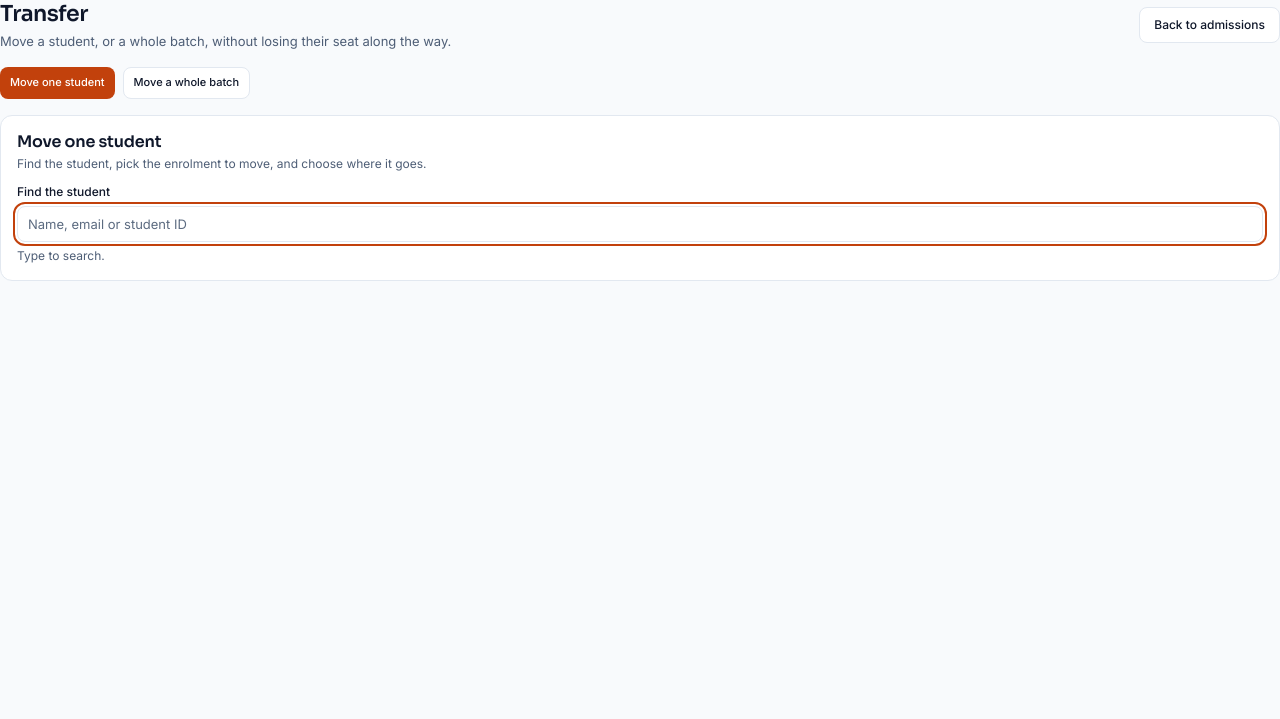
Scenario: Transfer — a whole batch › moves the ticked students in one request and says who was skipped
Click the button "Move a whole batch" at (186, 83), box [122, 67, 250, 99]
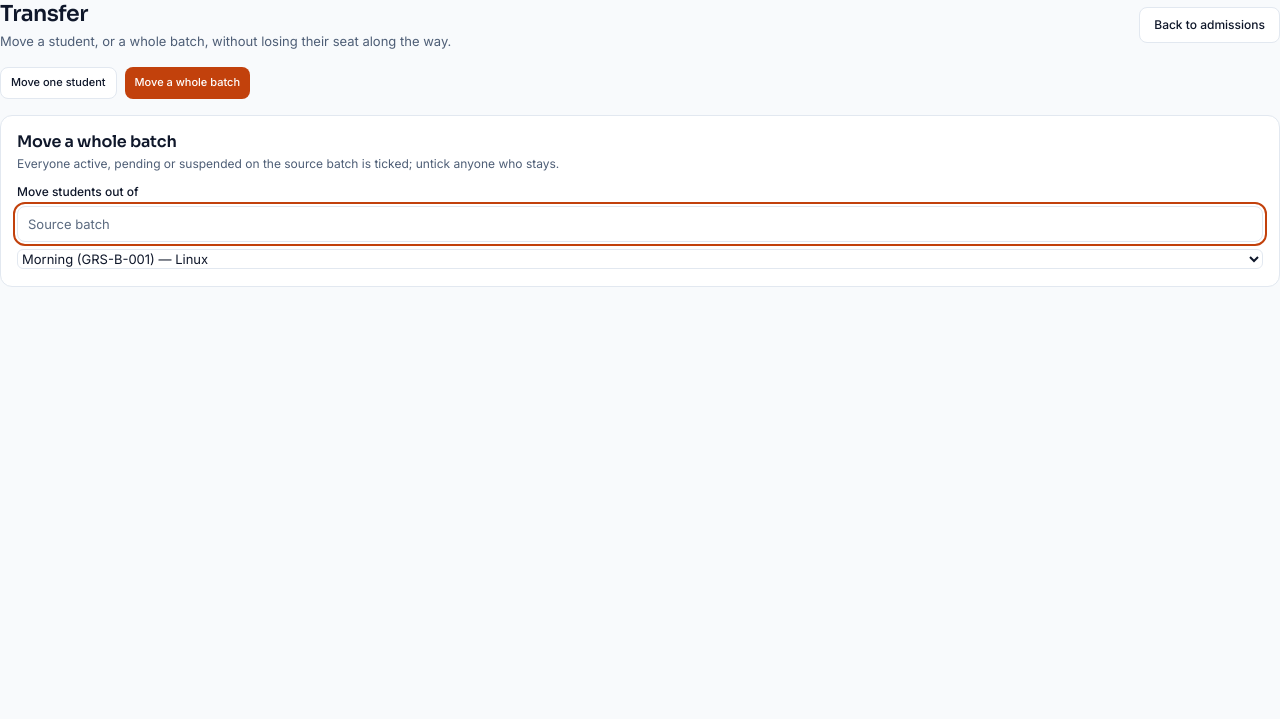
Select "Morning (GRS-B-001) — Linux" in the dropdown named "Move students out of results" at (640, 259), box [17, 249, 1263, 269]
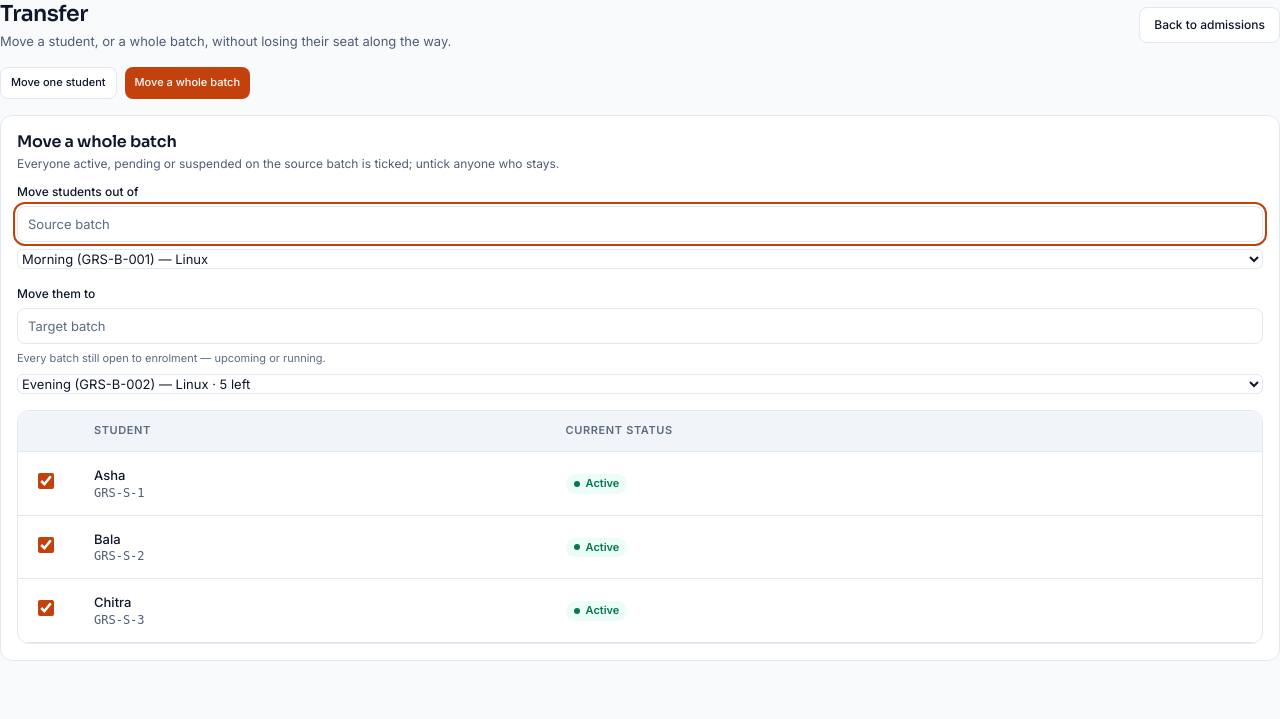
Select "Evening (GRS-B-002) — Linux · 5 left" in the dropdown named "Move them to results" at (640, 384), box [17, 374, 1263, 394]
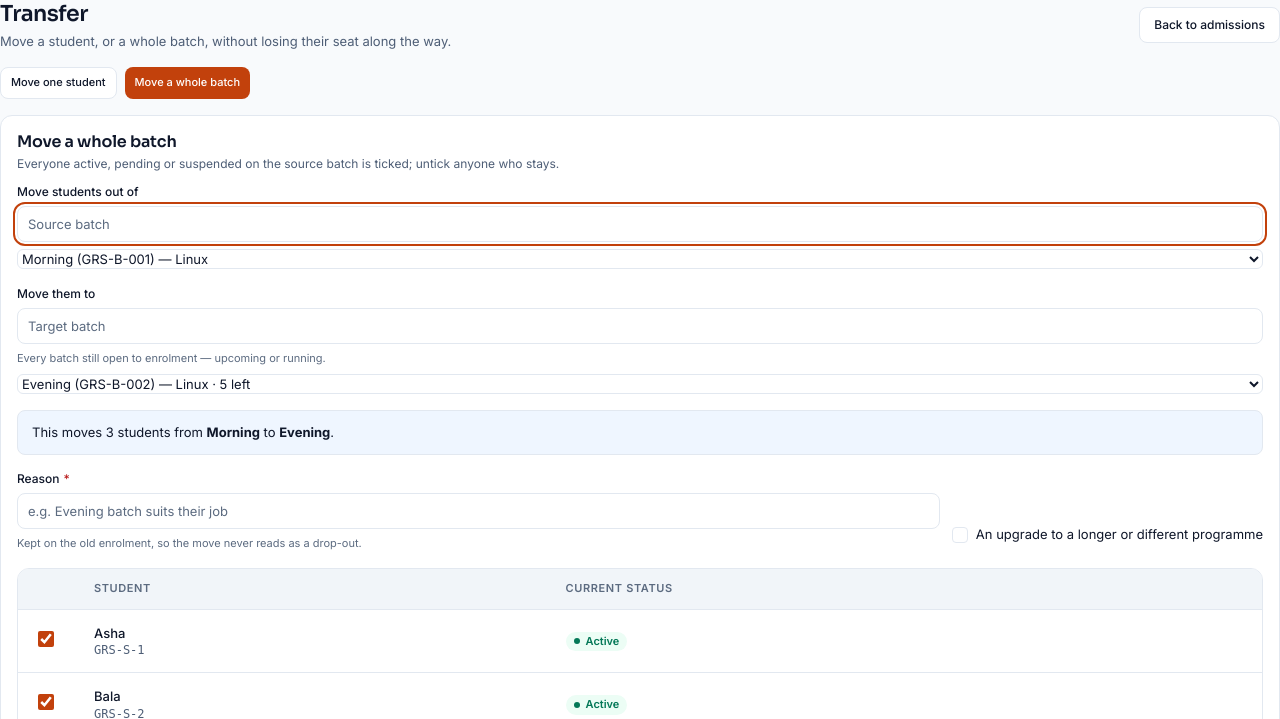
Click the checkbox named "Move Bala" at (46, 702), box [38, 694, 54, 710]
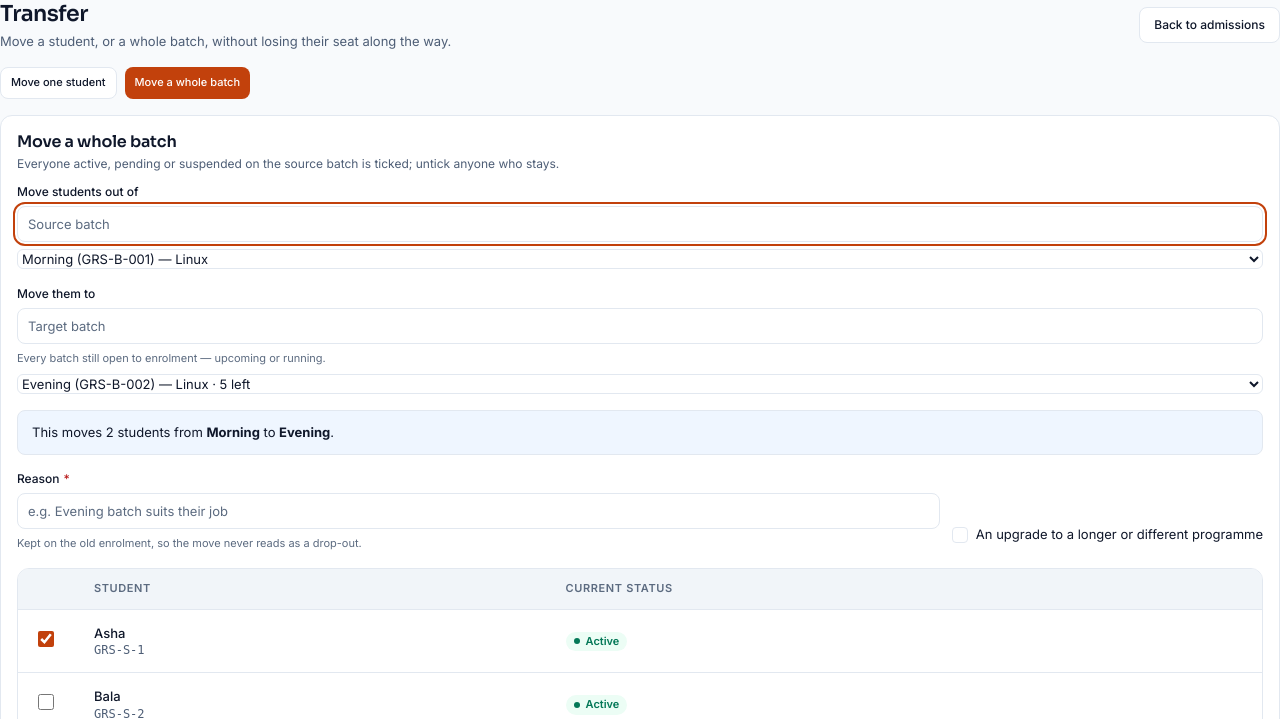
Now the message with test id "batch-transfer-preview" shows "This moves 2 students", box [17, 410, 1263, 455]
Type "Merged" into the field labelled "Reason*" at (478, 511), box [17, 493, 940, 529]
(page scrolled)
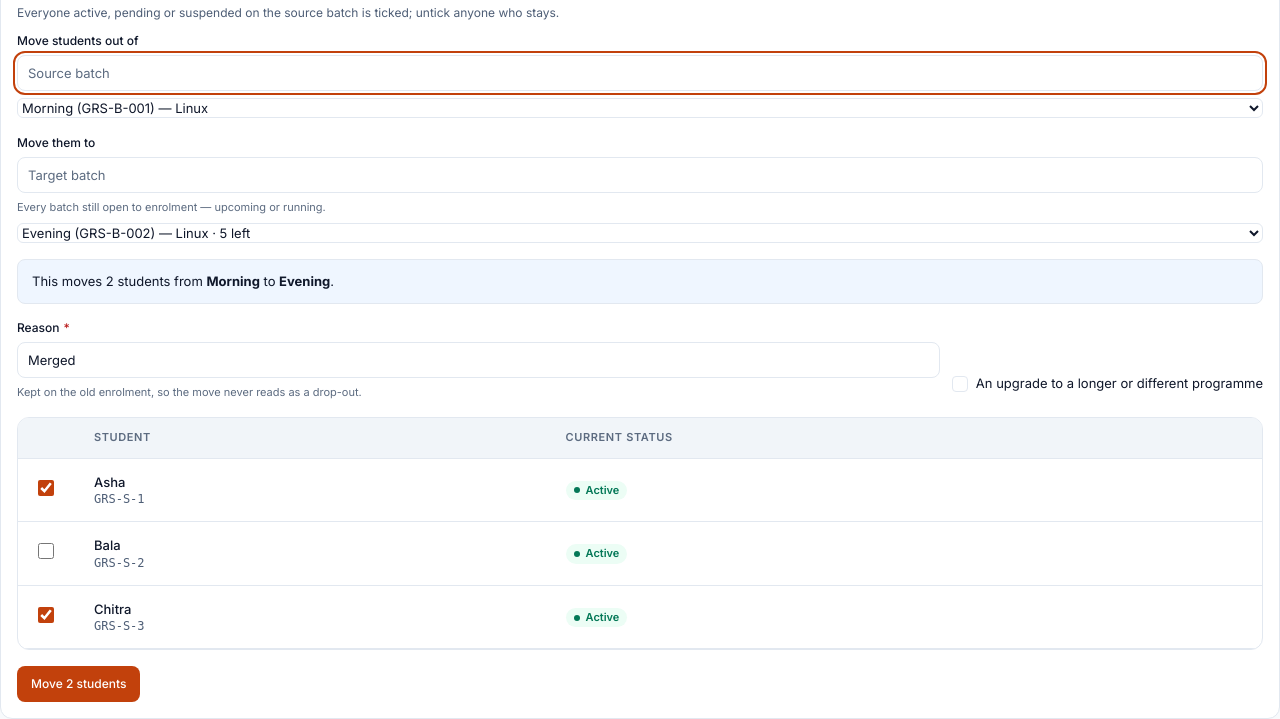
Click the button "Move 2 students" at (79, 684), box [17, 666, 140, 702]
(page scrolled)
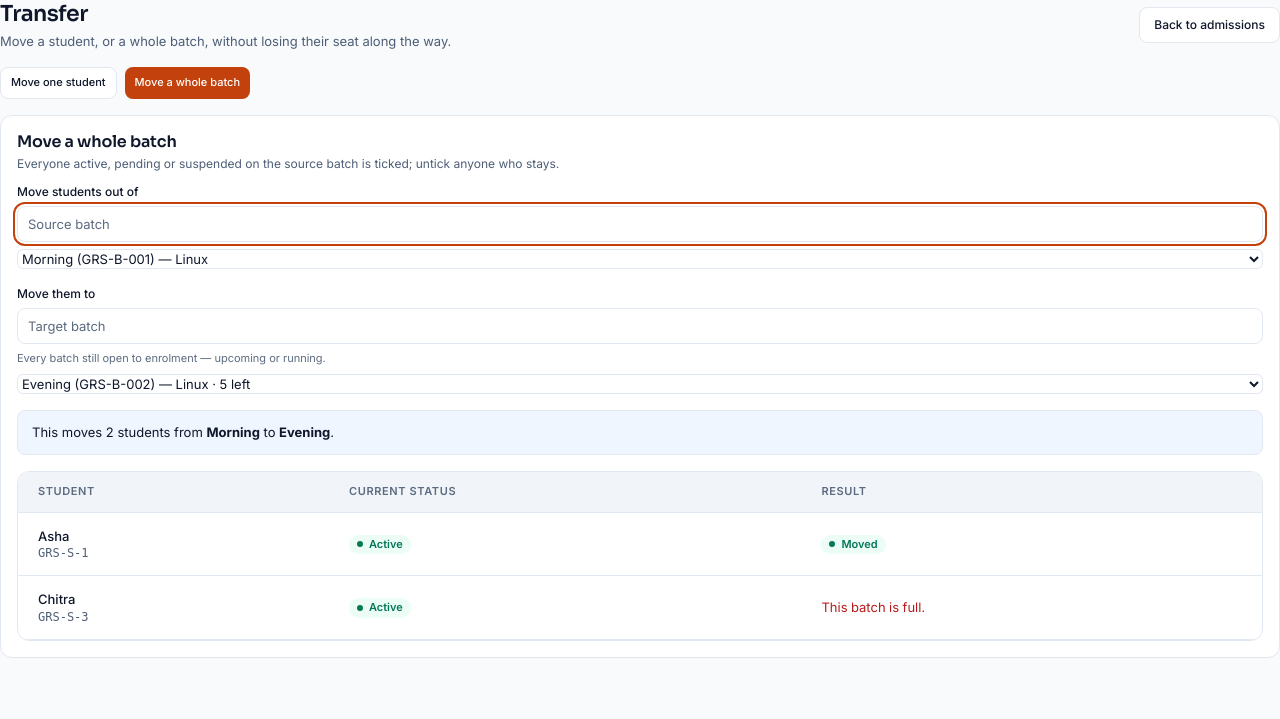
Now the text "Moved" is shown, box [821, 535, 886, 554]
Now the text "This batch is full." is shown, box [821, 599, 925, 615]
Now the text "Bala" is gone
